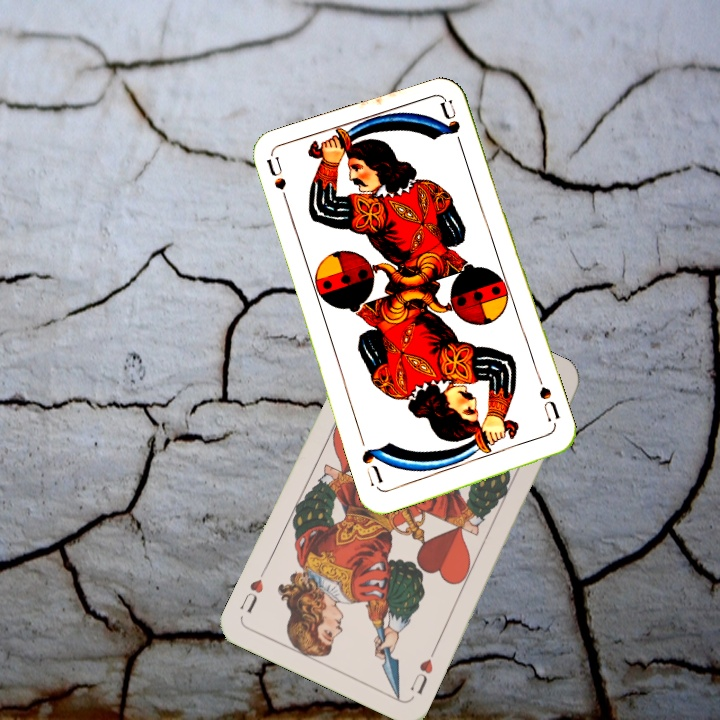HU: (406, 644, 439, 697)
SU: (263, 154, 294, 213), (534, 374, 563, 425)
